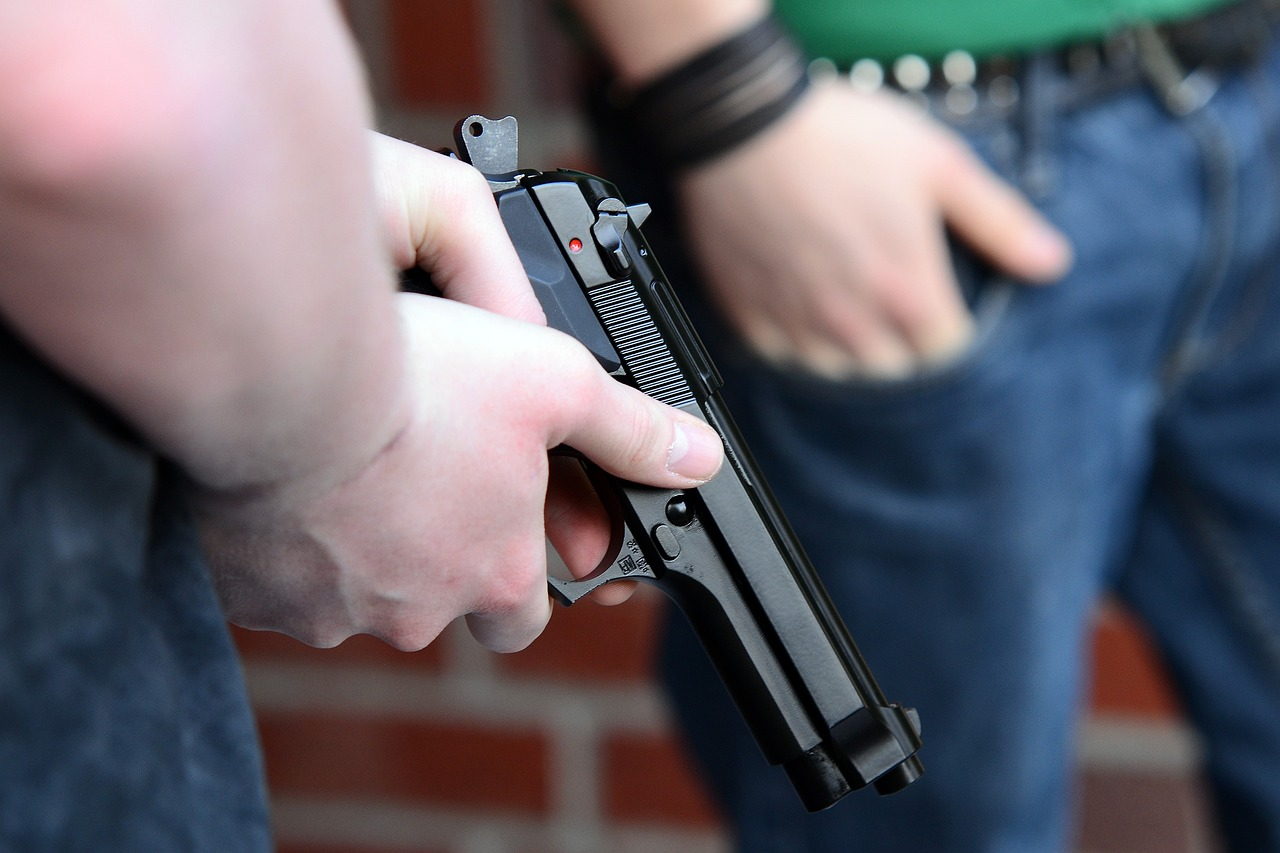gun: (392, 110, 930, 821)
